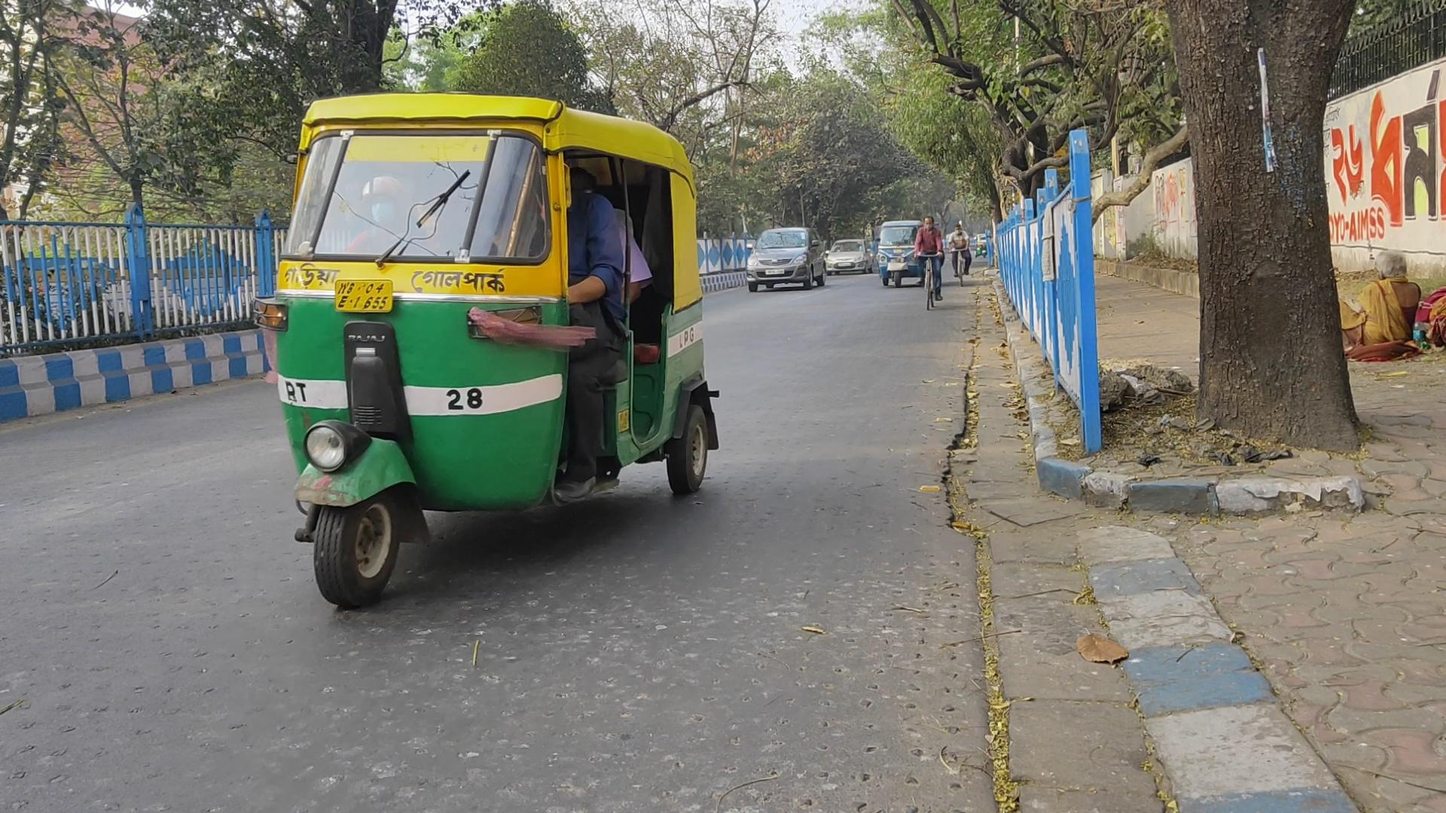Auto: (260, 92, 721, 610)
bike: (913, 215, 944, 305), (947, 224, 972, 288)
car: (745, 227, 827, 292), (826, 238, 874, 276)
van: (873, 221, 933, 288)
